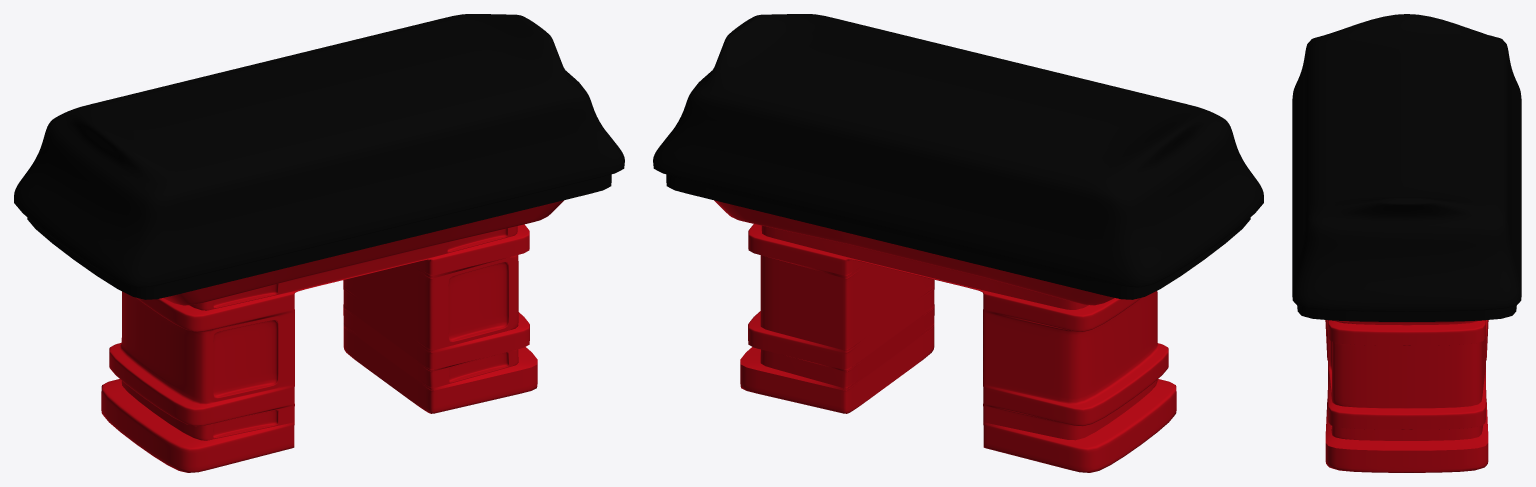
The model's file is edificios zaxxon2.fbx.
3 renders of one model, left to right at view 1: azimuth 30°, elevation 25°; view 2: azimuth 150°, elevation 25°; view 3: azimuth 270°, elevation 25°, orthographic. The views are drawn at different scales.
Parts seen in each view (by area): view 1: Edificio 2; view 2: Edificio 2; view 3: Edificio 2.
Part boxes in pixels (x1,y1,x2,y2): Edificio 2: (14,14,624,472); Edificio 2: (653,14,1263,472); Edificio 2: (1292,14,1521,472).
Bounding box in the file's own units: 91 × 54.55 × 39.46.
